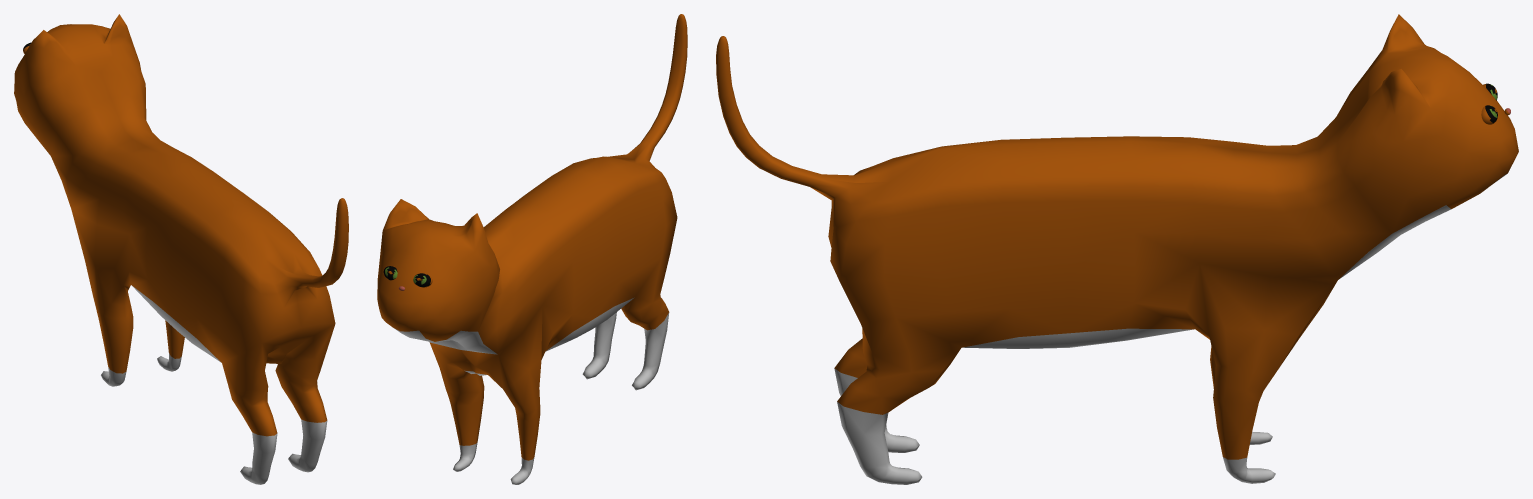
The model's file is cat.obj.
3 views of the same model, side by side, from view 1: azimuth 30°, elevation 25°; view 2: azimuth 150°, elevation 25°; view 3: azimuth 270°, elevation 25° (orthographic). The views are drawn at different scales.
Parts seen in each view (by area): view 1: cat_Cube; view 2: cat_Cube; view 3: cat_Cube.
Part boxes in pixels (x1,y1,x2,y2): cat_Cube: (14,14,348,484); cat_Cube: (377,14,687,484); cat_Cube: (716,14,1518,484).
Bounding box in the file's own units: 0.761 × 2.22 × 3.74.
